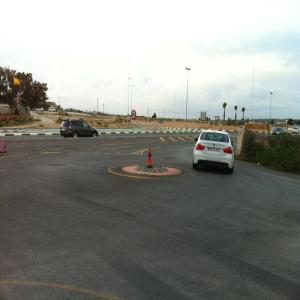Vehicle-registration-plate: (208, 148, 222, 152)
